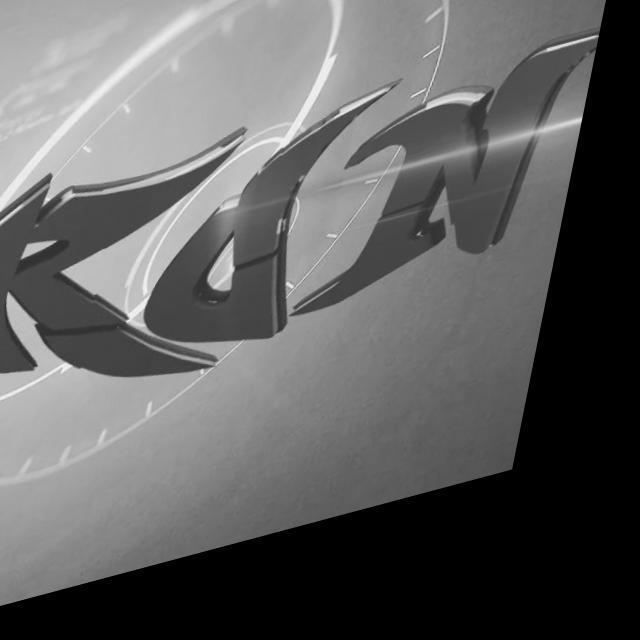-: (0, 0, 624, 472)
